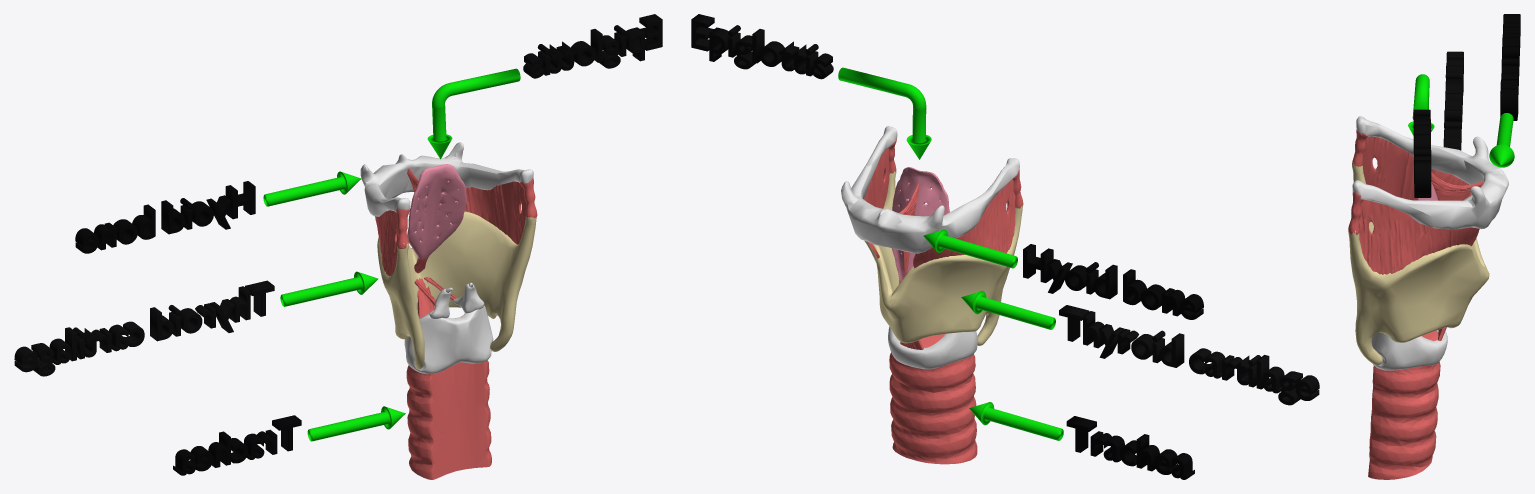
Rendered from voicebox.gltf.
3 views of the same model, side by side, from view 1: azimuth 30°, elevation 25°; view 2: azimuth 150°, elevation 25°; view 3: azimuth 270°, elevation 25° (orthographic). The views are drawn at different scales.
Parts seen in each view (by area): view 1: Thryoid_cartilage_Untitled.009, Text.000, Text.003, Text.002, Text.001, Cylinder.006, Cylinder.001, Cylinder.000, Cylinder.003; view 2: Thryoid_cartilage_Untitled.009, Text.000, Text.003, Text.002, Text.001, Cylinder.006, Cylinder.003, Cylinder.000, Cylinder.001; view 3: Thryoid_cartilage_Untitled.009, Text.003, Text.000, Text.002, Cylinder.003, Cylinder.006.
Part boxes in pixels (x1,y1,x2,y2): Thryoid_cartilage_Untitled.009: [360, 142, 537, 479]; Text.000: [14, 280, 274, 376]; Text.003: [75, 181, 255, 253]; Text.002: [523, 14, 662, 78]; Text.001: [173, 415, 301, 475]; Cylinder.006: [427, 68, 520, 159]; Cylinder.001: [307, 406, 405, 441]; Cylinder.000: [280, 271, 378, 306]; Cylinder.003: [263, 171, 361, 206]; Thryoid_cartilage_Untitled.009: [841, 126, 1023, 464]; Text.000: [1059, 305, 1319, 405]; Text.003: [1023, 244, 1203, 319]; Text.002: [691, 14, 833, 79]; Text.001: [1066, 416, 1194, 479]; Cylinder.006: [838, 67, 931, 159]; Cylinder.003: [923, 229, 1017, 268]; Cylinder.000: [961, 291, 1055, 329]; Cylinder.001: [969, 402, 1063, 440]; Thryoid_cartilage_Untitled.009: [1348, 116, 1508, 479]; Text.003: [1500, 14, 1520, 120]; Text.000: [1443, 51, 1463, 150]; Text.002: [1413, 109, 1431, 197]; Cylinder.003: [1489, 113, 1514, 167]; Cylinder.006: [1408, 74, 1434, 135].
Size of the model in its own units: 4.79 by 2.81 by 1.07.
